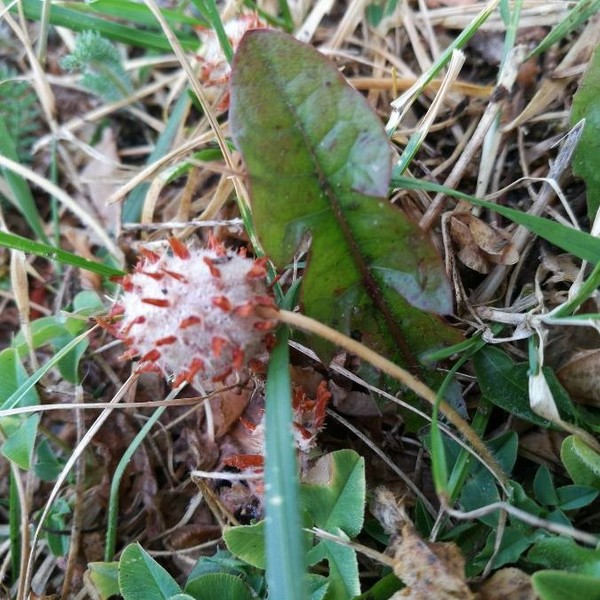obstacle: (222, 23, 549, 478)
